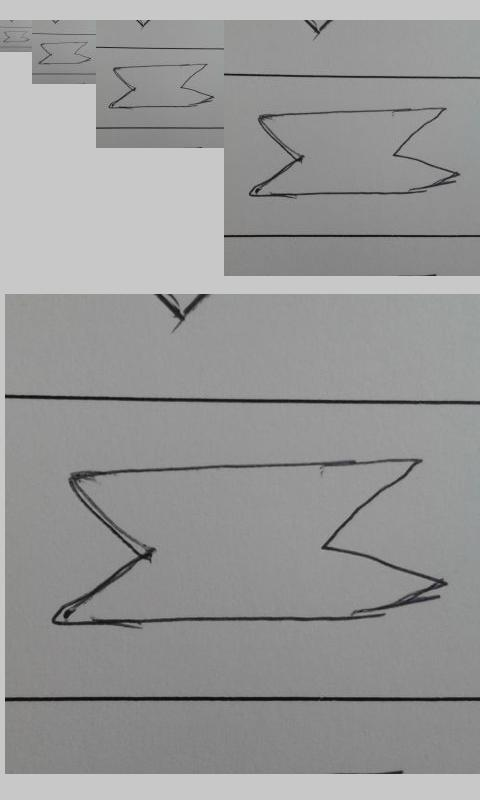edit_text: (50, 457, 452, 630), (244, 106, 462, 199), (108, 62, 214, 110), (38, 41, 91, 65), (3, 30, 30, 43)
